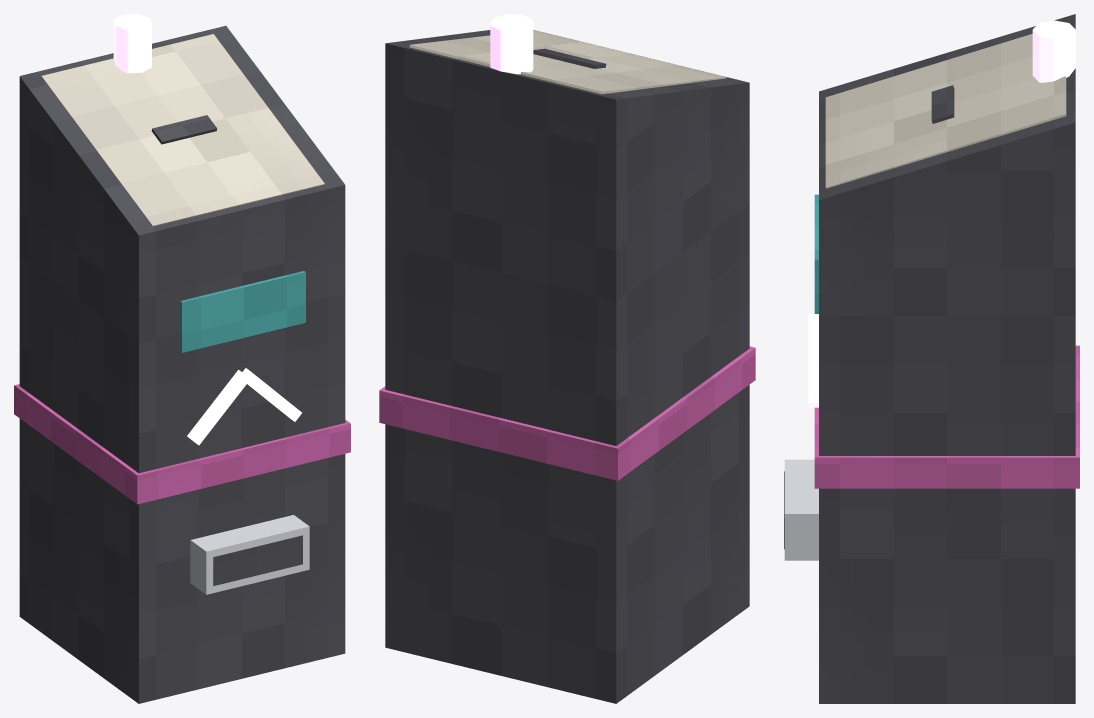
Rendered from three-d-retro-arcade-and-mall-1989-retro-arcade-and-mall-1989-ticket-redemption-machine-0f13acd3.glb.
3 renders of one model, left to right at view 1: azimuth 30°, elevation 25°; view 2: azimuth 150°, elevation 25°; view 3: azimuth 270°, elevation 25°, orthographic. The views are drawn at different scales.
Parts seen in each view (by area): view 1: ticket-redemption-machine; view 2: ticket-redemption-machine; view 3: ticket-redemption-machine.
Boxes of the visible parts, box(x1,y1,x2,y2) form: ticket-redemption-machine: box(14, 14, 350, 703); ticket-redemption-machine: box(379, 14, 755, 703); ticket-redemption-machine: box(784, 14, 1079, 703).
Size of the model in its own units: 0.62 by 1.6 by 0.6912.
6 materials, 4 textured.
